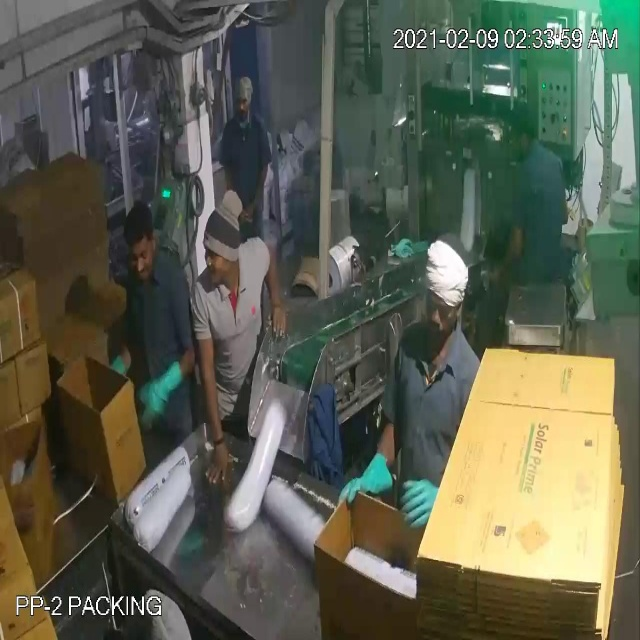Guantes: (324, 437, 397, 525), (390, 470, 449, 547), (135, 354, 186, 434)
Sin_guantes: (191, 316, 235, 504), (480, 210, 534, 296), (252, 237, 290, 347), (236, 148, 270, 226)
